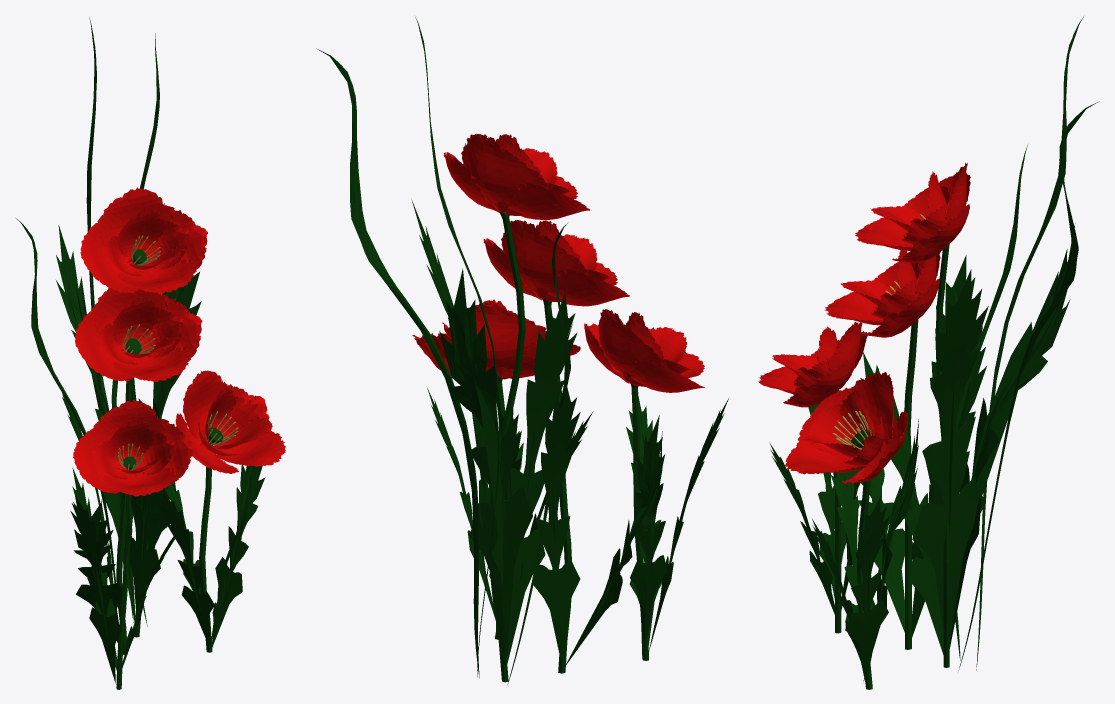
Rendered from poppy1.obj.
3 renders of one model, left to right at view 1: azimuth 30°, elevation 25°; view 2: azimuth 150°, elevation 25°; view 3: azimuth 270°, elevation 25°, orthographic. The views are drawn at different scales.
Parts seen in each view (by area): view 1: Californi7, Californi2, Californi1, Californi0, California, Californ10, Californi9, Californi8; view 2: Californi7, Californi2, Californ10, Californi1, Californi0, Californi9, California; view 3: Californi7, California, Californi2, Californ10, Californi1, Californi9, Californi0, Californi8.
Part boxes in pixels (x1,y1,x2,y2): Californi7: (56, 225, 265, 684); Californi2: (80, 187, 207, 293); Californi1: (75, 288, 202, 381); Californi0: (73, 399, 194, 496); California: (175, 370, 285, 473); Californ10: (16, 17, 159, 626); Californi9: (116, 259, 213, 689); Californi8: (117, 235, 238, 470); Californi7: (412, 200, 728, 667); Californi2: (443, 134, 590, 219); Californ10: (316, 17, 570, 685); Californi1: (483, 220, 629, 306); Californi0: (584, 309, 704, 392); Californi9: (489, 211, 648, 682); California: (412, 299, 580, 379); Californi7: (770, 223, 1075, 683); California: (785, 372, 907, 483); Californi2: (855, 162, 970, 263); Californ10: (955, 16, 1099, 670); Californi1: (824, 250, 940, 337); Californi9: (833, 244, 949, 689); Californi0: (758, 321, 867, 407); Californi8: (832, 208, 928, 449).
Bounding box in the file's own units: 13.01 × 32.3 × 15.16.
